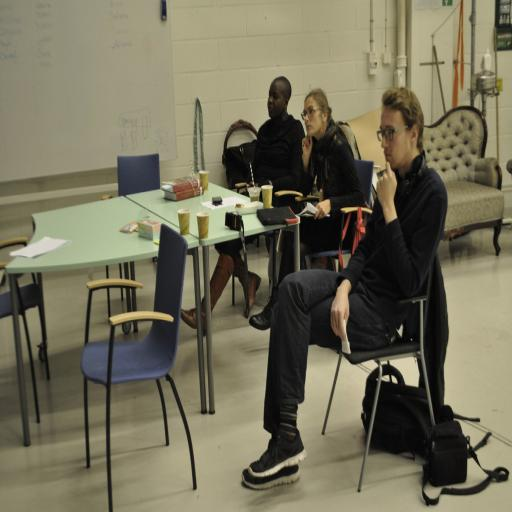Person: (241, 131, 451, 413), (204, 130, 300, 271), (297, 135, 359, 264)
boots: (176, 245, 236, 329), (244, 263, 302, 324), (226, 372, 314, 412), (228, 244, 268, 306), (246, 368, 314, 404)
goggles: (369, 159, 425, 184), (291, 153, 338, 169)
no_gloves: (365, 187, 403, 240), (325, 266, 359, 324)
no_helmet: (366, 136, 428, 184), (294, 141, 336, 168), (262, 128, 294, 160)
none: (330, 179, 452, 324), (289, 162, 370, 266), (238, 152, 306, 231)
